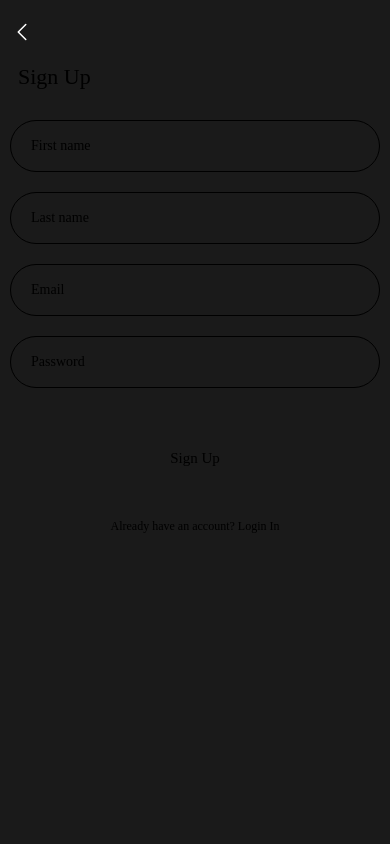
Test: RegisterScreen › Validation › Error Cleaning › should clear email error when email input is focused
Click the element with test id "Register".
click(195, 458)  # box [170,450,220,466]
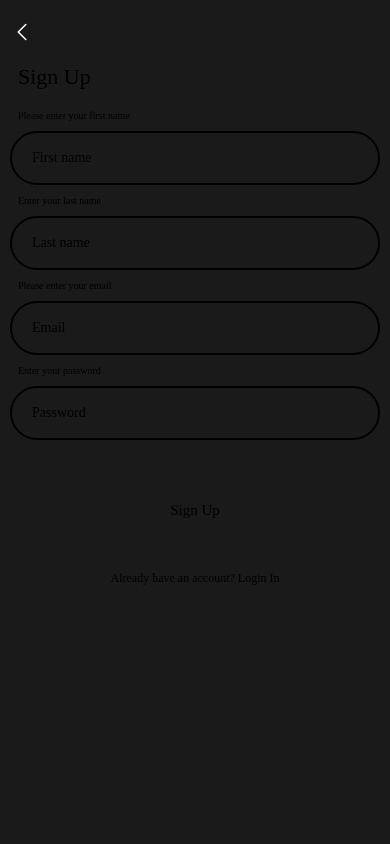
Focus the field with placeholder "Email" at (195, 328), box [12,303,378,353]
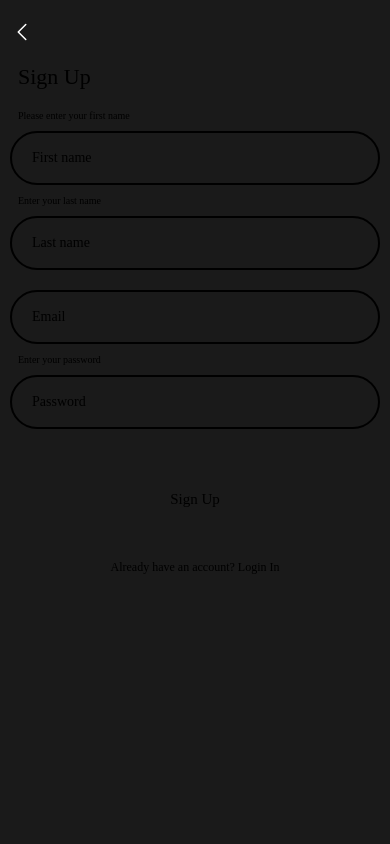
Result: the text "Please enter your email" is gone
